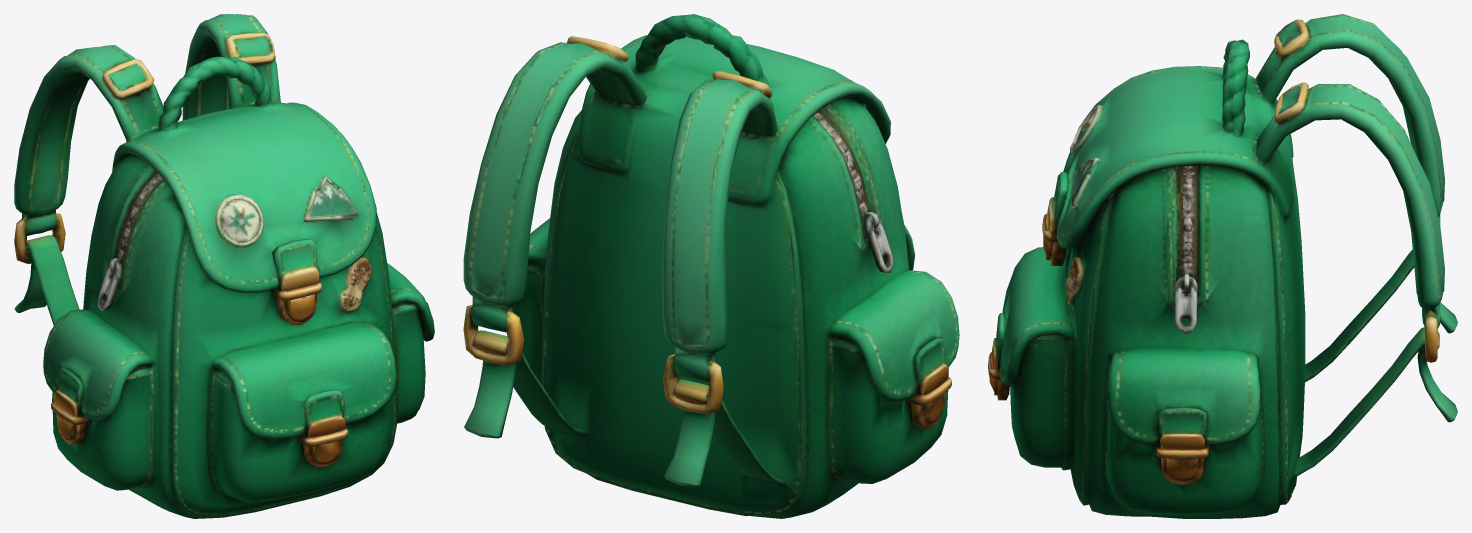
File: backpack.glb
The picture shows the model from 3 angles, left to right: view 1: azimuth 30°, elevation 25°; view 2: azimuth 150°, elevation 25°; view 3: azimuth 270°, elevation 25°; orthographic projection. The views are drawn at different scales.
Parts seen in each view (by area): view 1: tripo_node_8e06260e-2b5c-47fa-8fe4-a1abdd27ba00; view 2: tripo_node_8e06260e-2b5c-47fa-8fe4-a1abdd27ba00; view 3: tripo_node_8e06260e-2b5c-47fa-8fe4-a1abdd27ba00.
Part boxes in pixels (x1,y1,x2,y2): tripo_node_8e06260e-2b5c-47fa-8fe4-a1abdd27ba00: [14, 14, 434, 518]; tripo_node_8e06260e-2b5c-47fa-8fe4-a1abdd27ba00: [463, 14, 959, 518]; tripo_node_8e06260e-2b5c-47fa-8fe4-a1abdd27ba00: [988, 14, 1457, 518].
Bounding box in the file's own units: 0.935 × 0.9771 × 0.9771.
1 material, 1 textured.
